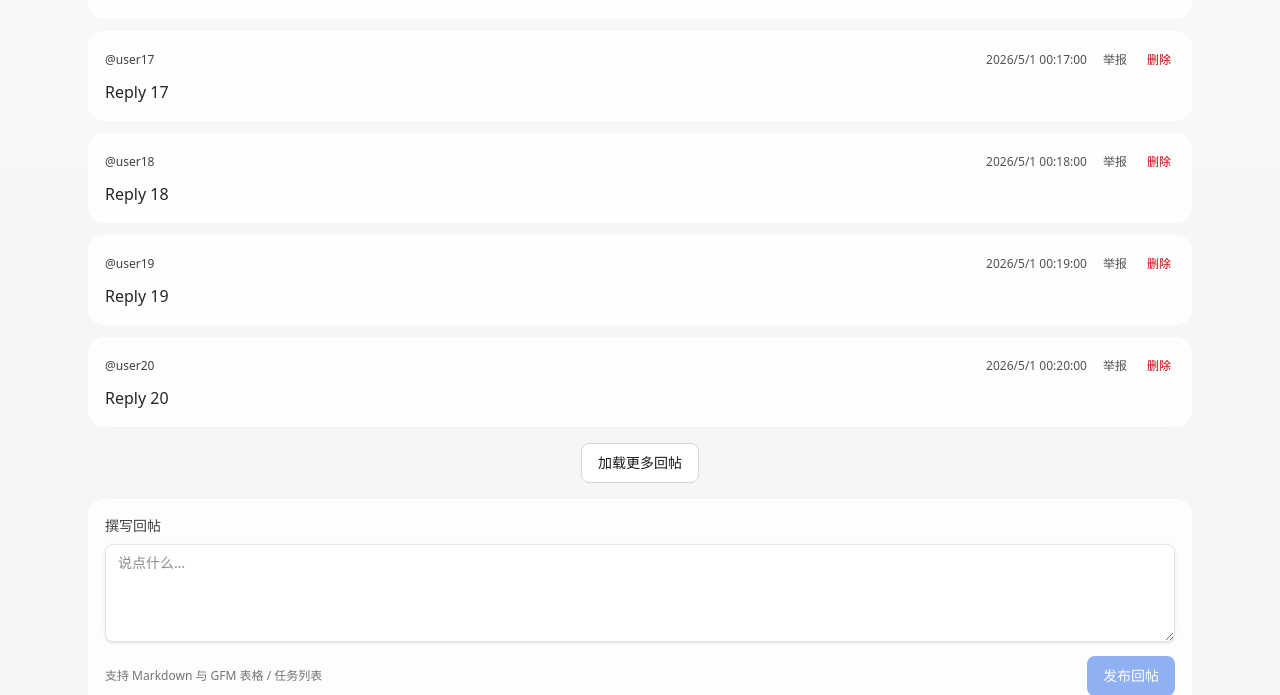
it: ForumDetailPage replies pagination › can load more replies after deleting the current reply cursor
The image size is (1280, 695).
(page scrolled)
Click the button with aria-label "删除 @user20 的回帖" at (1159, 366), box [1143,354,1175,378]
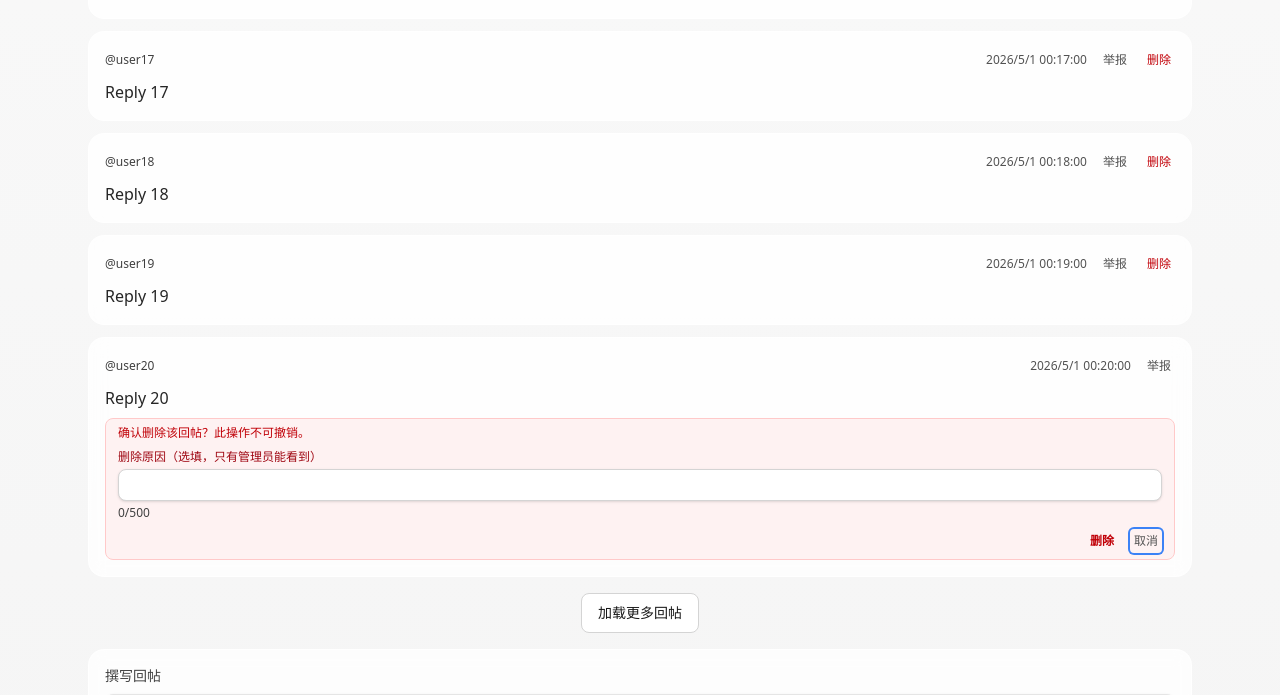
Click the button "删除" below "2026/5/1 00:20:00" at (1102, 541), box [1086,529,1118,553]
(page scrolled)
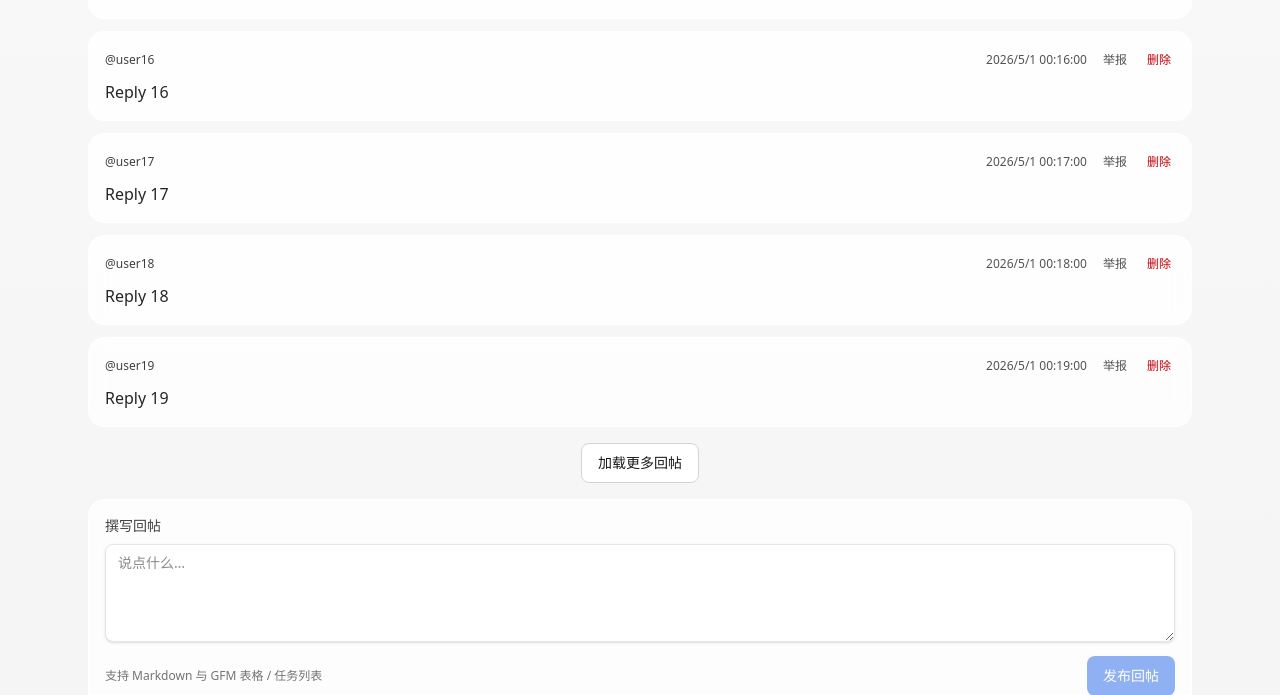
expect the text "Reply 20" is gone: met
Click the button "加载更多回帖" at (640, 463), box [581,443,699,483]
(page scrolled)
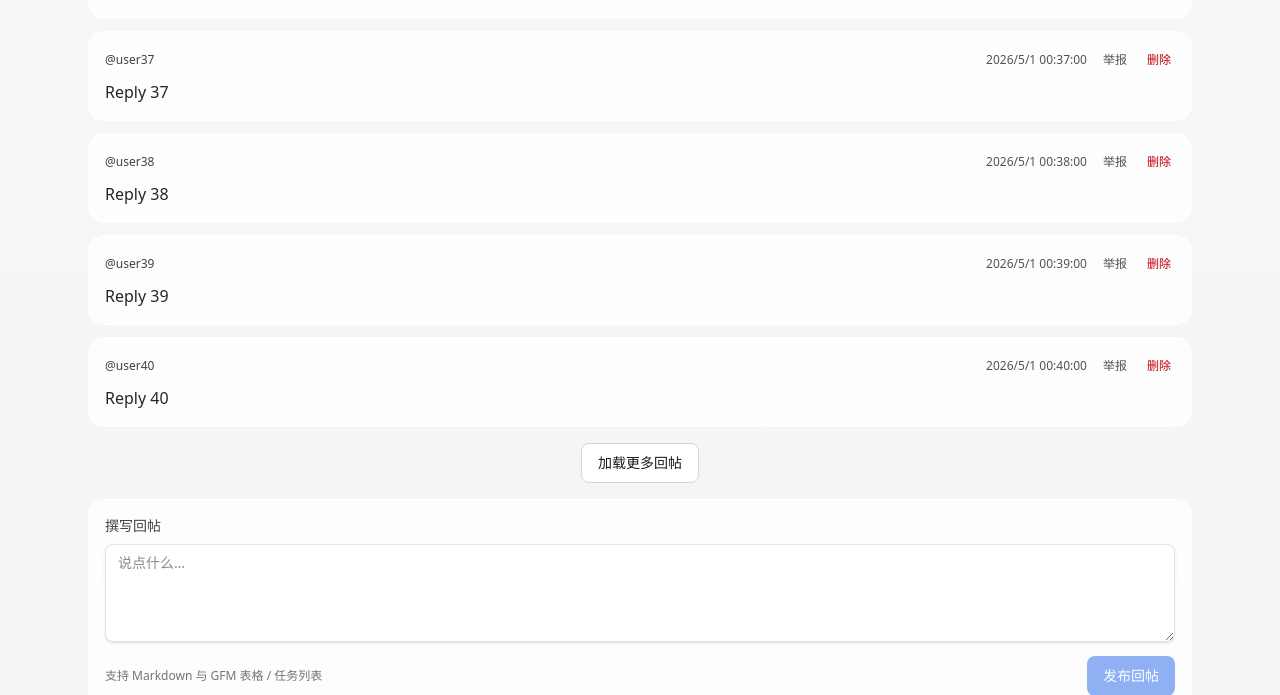
expect the text "Reply 40" is shown: met, box [105,387,169,409]
